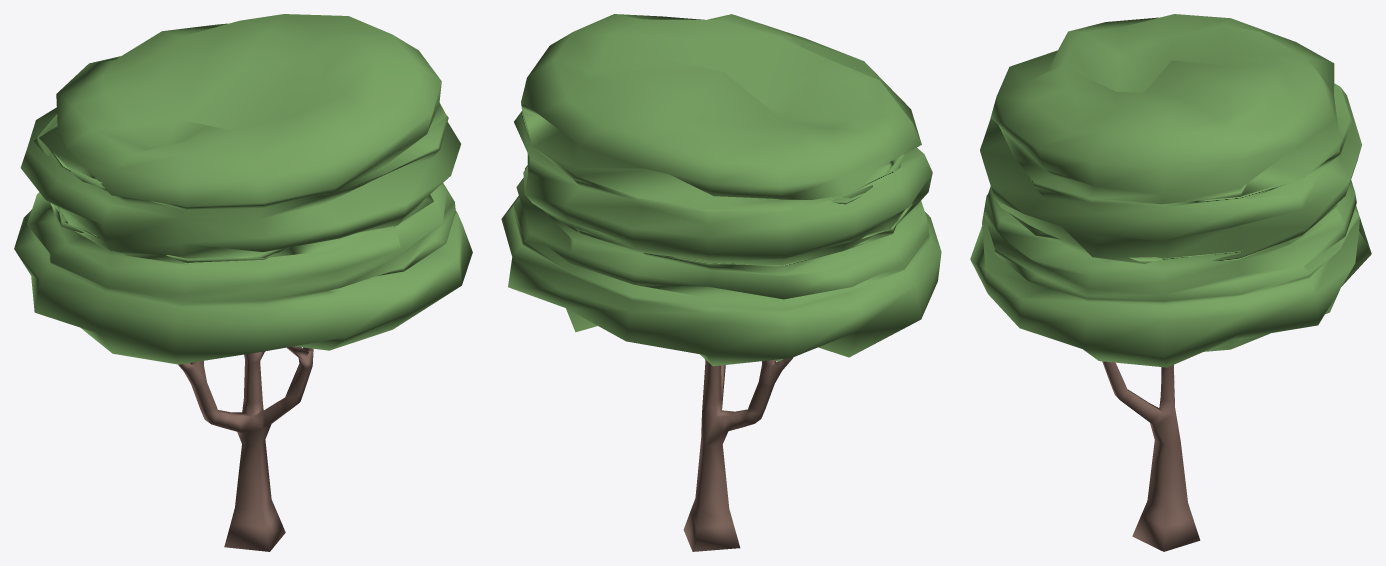
File: tree_01.glb
3 renders of one model, left to right at view 1: azimuth 30°, elevation 25°; view 2: azimuth 150°, elevation 25°; view 3: azimuth 270°, elevation 25°, orthographic.
Parts seen in each view (by area): view 1: tree_01; view 2: tree_01; view 3: tree_01.
Boxes of the visible parts, x1=… form: tree_01: x1=14, y1=14, x2=472, y2=551; tree_01: x1=501, y1=14, x2=941, y2=551; tree_01: x1=970, y1=14, x2=1371, y2=551.
Bounding box in the file's own units: 3.29 × 3.72 × 2.83.
Materials: 1 (1 with a texture image).
